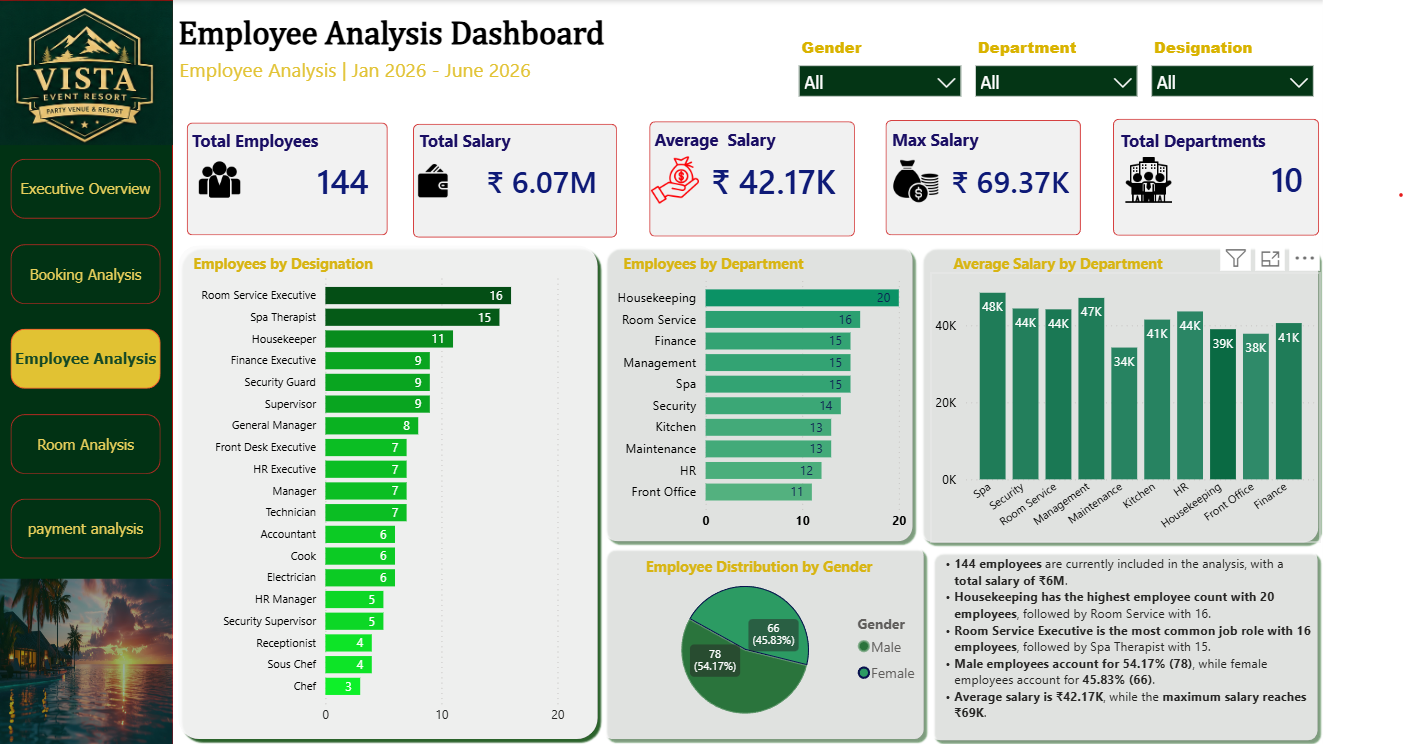

Layout of this report page (visuals, bound fields, positions):
{"tool":"powerbi","page":{"name":"Employee Analysis","canvas":[1280,720],"ordinal":2},"visuals":[{"type":"shape","box":[0,0,169,720],"z":0},{"type":"textbox","box":[168.6,11.4,498.6,60],"z":1000},{"type":"shape","box":[882.7,230,397.3,299.3],"z":2000},{"type":"shape","box":[182,118,194,109],"z":3000},{"type":"shape","box":[401,119,197,110],"z":4000},{"type":"shape","box":[857.1,115.7,188.6,111.4],"z":5000},{"type":"shape","box":[628.6,117.1,198.6,111.4],"z":6000},{"type":"shape","box":[1076,115,199,113],"z":7000},{"type":"image","box":[0,0,168.6,140],"z":8000},{"type":"image","box":[0,558.6,168.6,161.4],"z":9000},{"type":"textbox","box":[170,49.1,398.2,41.8],"z":10000},{"type":"shape","box":[578.2,230.9,310.9,298.2],"z":11000},{"type":"shape","box":[168.2,230.9,417.3,489.1],"z":12000},{"type":"shape","box":[578.3,520.8,321.7,198.3],"z":13000},{"type":"shape","box":[894.2,524.2,385.8,195.8],"z":14000},{"type":"cardVisual","fields":{"Data":["Count(Employee_Dataset.Employee_ID)"]},"box":[250,119.1,125.5,108.2],"z":15000},{"type":"cardVisual","fields":{"Data":["Sum(Employee_Dataset.Salary)"]},"box":[417.4,119.4,178.6,107.4],"z":16000},{"type":"cardVisual","fields":{"Data":["Avg(Employee_Dataset.Salary)"]},"box":[629.1,119.1,197.3,109.1],"z":17000},{"type":"cardVisual","fields":{"Data":["Max(Employee_Dataset.Salary)"]},"box":[883.1,119.4,168.9,109.8],"z":18000},{"type":"cardVisual","fields":{"Data":["Count(Employee_Dataset.Department)"]},"box":[1078.2,117.3,198.2,110],"z":19000},{"type":"barChart","fields":{"Category":["Employee_Dataset.Department"],"Y":["CountNonNull(Employee_Dataset.Employee_ID)"]},"box":[590.9,258.2,285.5,262.7],"z":20000},{"type":"barChart","fields":{"Category":["Employee_Dataset.Designation"],"Y":["CountNonNull(Employee_Dataset.Employee_ID)"]},"box":[181.8,256.4,370,452.7],"z":21000},{"type":"pieChart","fields":{"Category":["Employee_Dataset.Gender"],"Y":["CountNonNull(Employee_Dataset.Employee_ID)"]},"box":[608,534.5,292.5,185.8],"z":22000},{"type":"columnChart","fields":{"Category":["Employee_Dataset.Department"],"Y":["Avg(Employee_Dataset.Salary)"]},"box":[900,263.3,376.7,260.8],"z":23000},{"type":"slicer","fields":{"Values":["Employee_Dataset.Department"]},"box":[932.5,30,177.5,80],"z":24000},{"type":"slicer","fields":{"Values":["Employee_Dataset.Designation"]},"box":[1102.5,30,177.5,80],"z":25000},{"type":"slicer","fields":{"Values":["Employee_Dataset.Gender"]},"box":[762.5,30,177.5,80],"z":26000},{"type":"textbox","box":[900,530.8,375.2,177.3],"z":27000},{"type":"textbox","box":[181.8,120,166.4,40],"z":28000},{"type":"textbox","box":[1078.2,120,157.3,40],"z":29000},{"type":"textbox","box":[858.2,118.2,157.3,40],"z":30000},{"type":"textbox","box":[629.1,118.2,157.3,40],"z":31000},{"type":"textbox","box":[401.8,120,157.3,40],"z":32000},{"type":"textbox","box":[183.1,240,212.3,32.3],"z":33000},{"type":"textbox","box":[598.2,240,218.2,32.7],"z":34000},{"type":"textbox","box":[916.9,240,218.5,32.3],"z":35000},{"type":"textbox","box":[620,531.5,280,33.8],"z":36000},{"type":"image","box":[193,150.8,41,39.8],"z":37000},{"type":"image","box":[401.7,152,36.2,44.6],"z":38000},{"type":"image","box":[628.6,150.8,49.5,45.8],"z":39000},{"type":"image","box":[862.6,152,47.1,45.8],"z":40000},{"type":"image","box":[1085.8,150.8,49.5,45.8],"z":41000},{"type":"pageNavigator","box":[12.1,153.2,145.7,387.1],"z":42000}]}

Visuals, with their boxes on the page's 1280x720 design canvas (x1, y1, x2, y2). These are canvas units, not pixel positions in the 1403x744 screenshot, which may show the page scaled, cropped or inside an application window:
shape: bbox=(0, 0, 169, 720)
textbox: bbox=(169, 11, 667, 71)
shape: bbox=(883, 230, 1280, 529)
shape: bbox=(182, 118, 376, 227)
shape: bbox=(401, 119, 598, 229)
shape: bbox=(857, 116, 1046, 227)
shape: bbox=(629, 117, 827, 228)
shape: bbox=(1076, 115, 1275, 228)
image: bbox=(0, 0, 169, 140)
image: bbox=(0, 559, 169, 720)
textbox: bbox=(170, 49, 568, 91)
shape: bbox=(578, 231, 889, 529)
shape: bbox=(168, 231, 586, 720)
shape: bbox=(578, 521, 900, 719)
shape: bbox=(894, 524, 1280, 720)
cardVisual - Count(Employee_Dataset.Employee_ID): bbox=(250, 119, 376, 227)
cardVisual - Sum(Employee_Dataset.Salary): bbox=(417, 119, 596, 227)
cardVisual - Avg(Employee_Dataset.Salary): bbox=(629, 119, 826, 228)
cardVisual - Max(Employee_Dataset.Salary): bbox=(883, 119, 1052, 229)
cardVisual - Count(Employee_Dataset.Department): bbox=(1078, 117, 1276, 227)
barChart - Employee_Dataset.Department x CountNonNull(Employee_Dataset.Employee_ID): bbox=(591, 258, 876, 521)
barChart - Employee_Dataset.Designation x CountNonNull(Employee_Dataset.Employee_ID): bbox=(182, 256, 552, 709)
pieChart - Employee_Dataset.Gender x CountNonNull(Employee_Dataset.Employee_ID): bbox=(608, 534, 900, 720)
columnChart - Employee_Dataset.Department x Avg(Employee_Dataset.Salary): bbox=(900, 263, 1277, 524)
slicer - Employee_Dataset.Department: bbox=(932, 30, 1110, 110)
slicer - Employee_Dataset.Designation: bbox=(1102, 30, 1280, 110)
slicer - Employee_Dataset.Gender: bbox=(762, 30, 940, 110)
textbox: bbox=(900, 531, 1275, 708)
textbox: bbox=(182, 120, 348, 160)
textbox: bbox=(1078, 120, 1236, 160)
textbox: bbox=(858, 118, 1016, 158)
textbox: bbox=(629, 118, 786, 158)
textbox: bbox=(402, 120, 559, 160)
textbox: bbox=(183, 240, 395, 272)
textbox: bbox=(598, 240, 816, 273)
textbox: bbox=(917, 240, 1135, 272)
textbox: bbox=(620, 532, 900, 565)
image: bbox=(193, 151, 234, 191)
image: bbox=(402, 152, 438, 197)
image: bbox=(629, 151, 678, 197)
image: bbox=(863, 152, 910, 198)
image: bbox=(1086, 151, 1135, 197)
pageNavigator: bbox=(12, 153, 158, 540)
